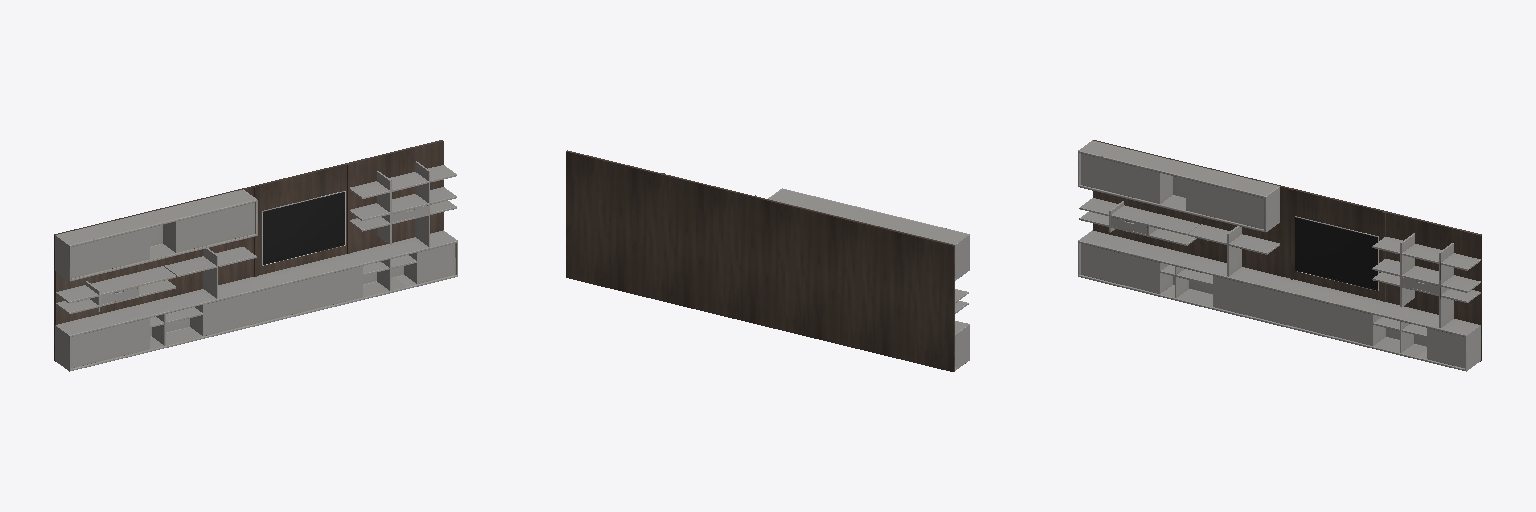
3 views of the same model, side by side, from view 1: azimuth 30°, elevation 25°; view 2: azimuth 150°, elevation 25°; view 3: azimuth 330°, elevation 25° (orthographic).
Parts seen in each view (by area): view 1: solid_001, solid_002, solid_004; view 2: solid_002, solid_001; view 3: solid_001, solid_002, solid_004.
Part boxes in pixels (x1,y1,x2,y2): solid_001: (55, 161, 457, 371); solid_002: (54, 140, 443, 361); solid_004: (263, 192, 344, 263); solid_002: (566, 150, 954, 371); solid_001: (768, 188, 969, 370); solid_001: (1078, 140, 1480, 371); solid_002: (1093, 140, 1481, 361); solid_004: (1295, 217, 1377, 288).
Size of the model in its own units: 4.65 by 1.45 by 0.3288.
1 materials, 1 textured.